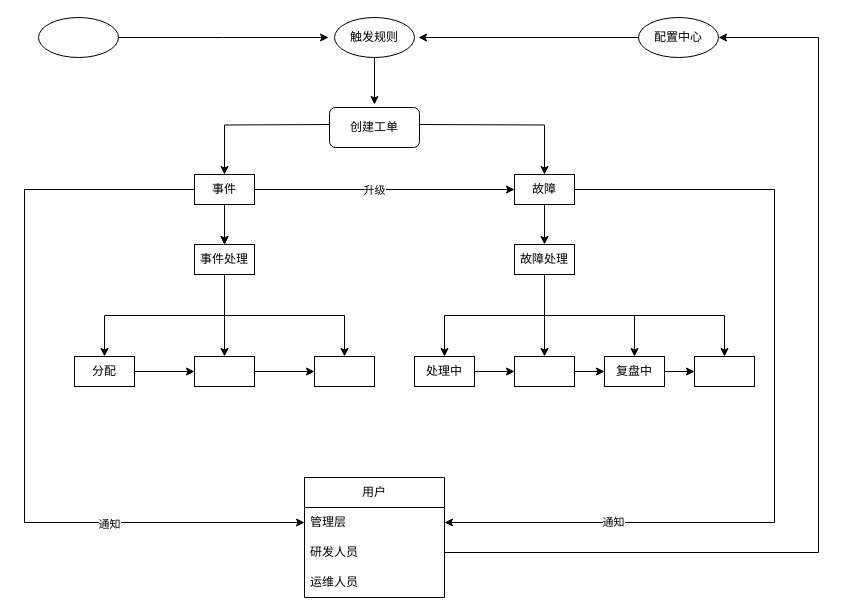
The diagram is 844 pixels wide and 615 high, and some of its shapes have lost their labels. The shapes that lost their labels are listed below. From the top down, each one's centre as x and y in pixels, then its label:
pixel 78 37: 烽火台
pixel 224 371: 响应
pixel 344 371: 完成
pixel 544 371: 已恢复
pixel 724 371: 已复盘
